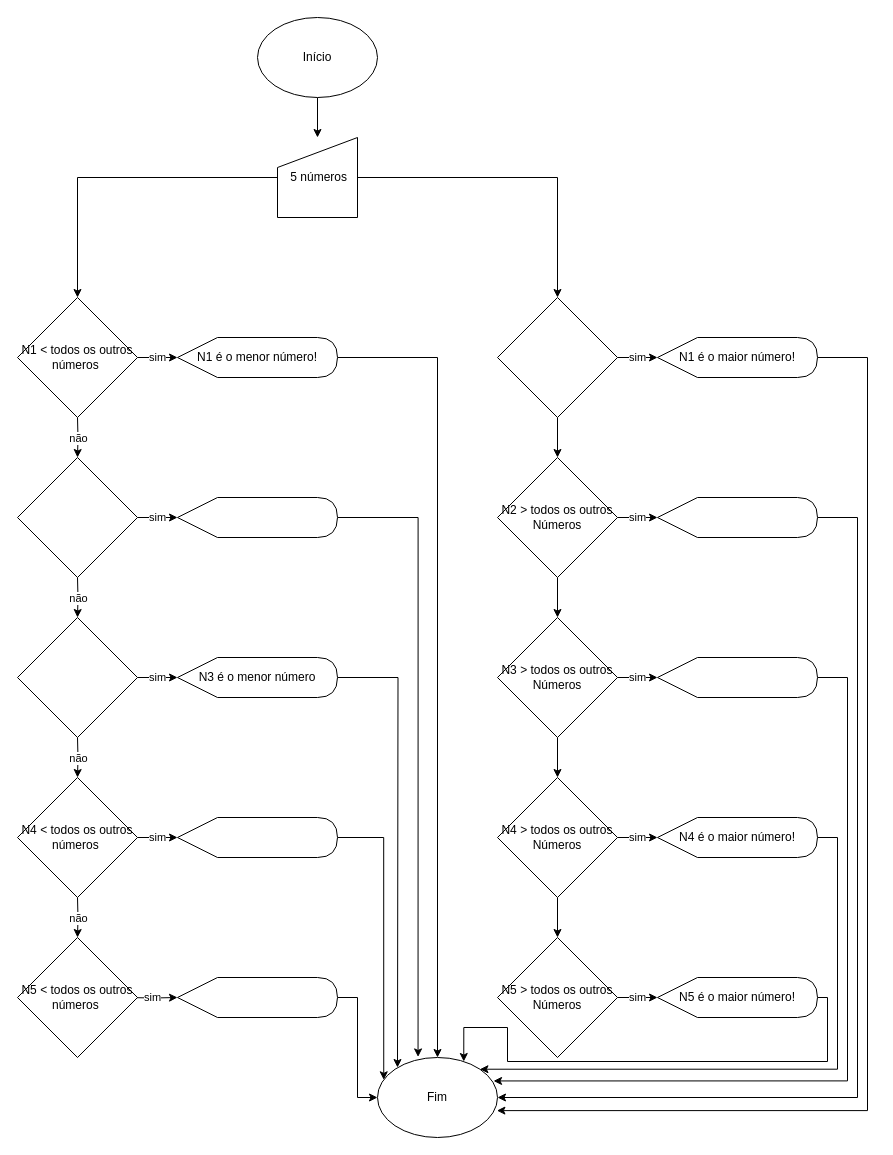
Image size: 893x1155. Some labels were removed from this diagram. The centre of each missing label's shape, as x and y in pixels:
"N1 > todos os outros Números" belongs at (557,357).
"N2 < todos os outros números" belongs at (77,517).
"N2 é o maior número!" belongs at (737,517).
"N2 é o menor número" belongs at (257,517).
"N3 < todos os outros números" belongs at (77,677).
"N3 é o maior número!" belongs at (737,677).
"N4 é o menor número" belongs at (257,837).
"N5 é o menor número" belongs at (257,997).
